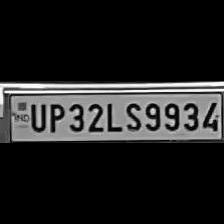2: (84, 99, 104, 133)
3: (179, 98, 199, 132), (65, 100, 84, 132)
4: (199, 98, 219, 132)
9: (142, 99, 162, 131), (160, 99, 180, 131)
L: (102, 98, 120, 132)
P: (45, 100, 65, 134)
S: (122, 100, 142, 132)
U: (26, 100, 46, 132)
